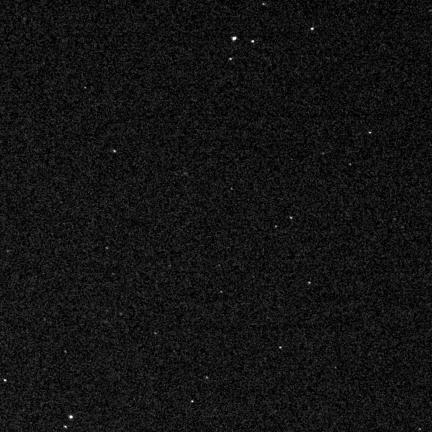blob: (232, 37, 237, 41), (311, 27, 315, 31), (279, 346, 283, 350), (113, 150, 117, 154), (206, 376, 209, 380), (191, 400, 195, 403), (229, 58, 233, 61), (252, 40, 255, 44), (308, 281, 311, 284), (275, 225, 278, 228), (4, 379, 7, 382), (290, 217, 293, 220), (69, 416, 72, 419), (369, 132, 372, 134)
